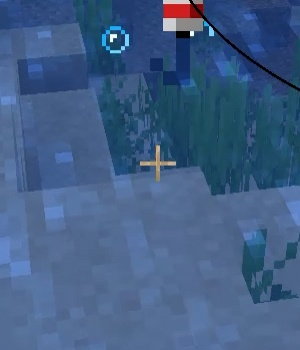up: (152, 1, 212, 85)
